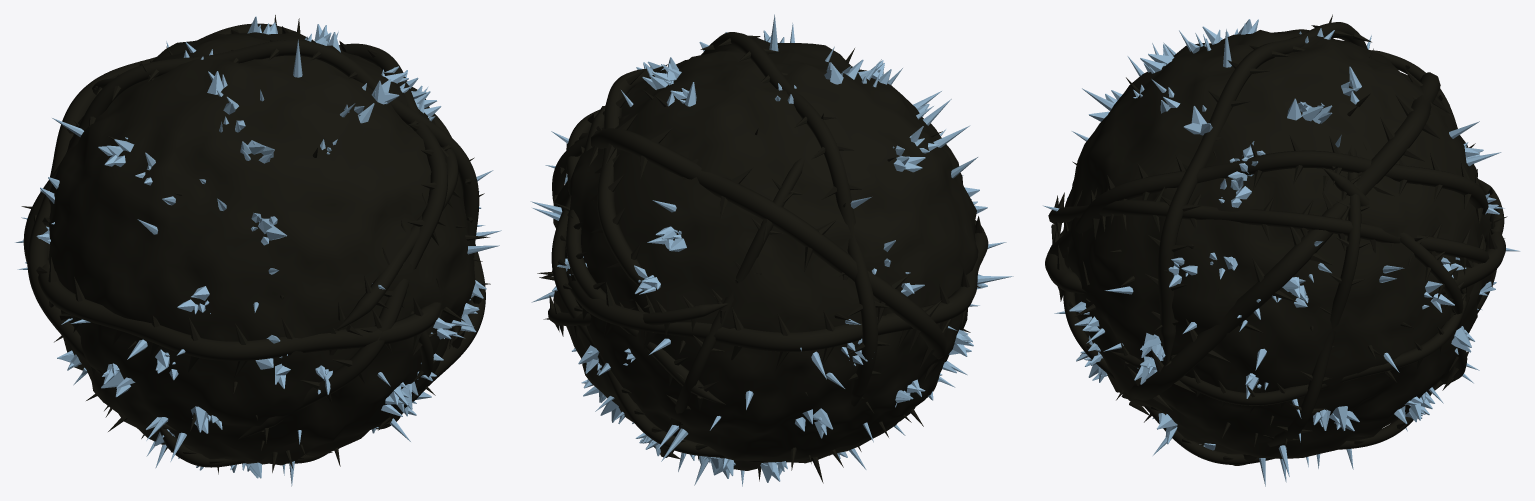
The model's file is erstling.obj.
3 views of the same model, side by side, from view 1: azimuth 30°, elevation 25°; view 2: azimuth 150°, elevation 25°; view 3: azimuth 270°, elevation 25° (orthographic). The views are drawn at different scales.
Parts seen in each view (by area): view 1: Erstling; view 2: Erstling; view 3: Erstling.
Part boxes in pixels (x1,y1,x2,y2): Erstling: (15,15,501,486); Erstling: (530,14,1013,486); Erstling: (1043,14,1520,486).
Bounding box in the file's own units: 591 × 590 × 586.
